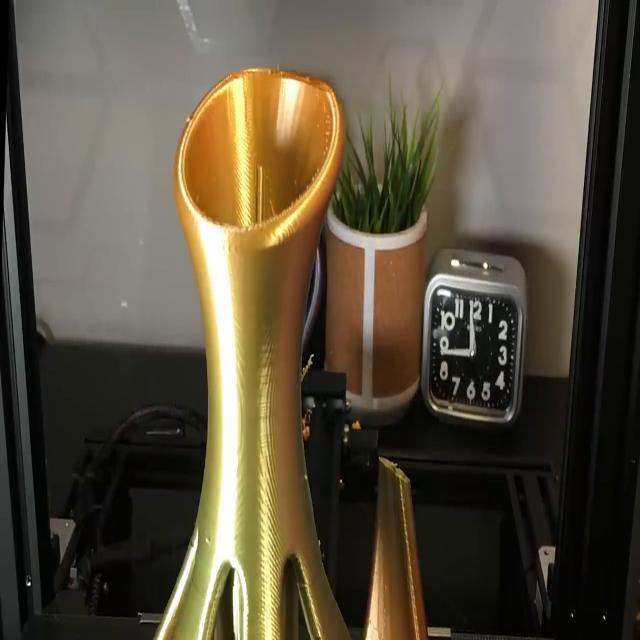spaghetti: (297, 352, 321, 380)
